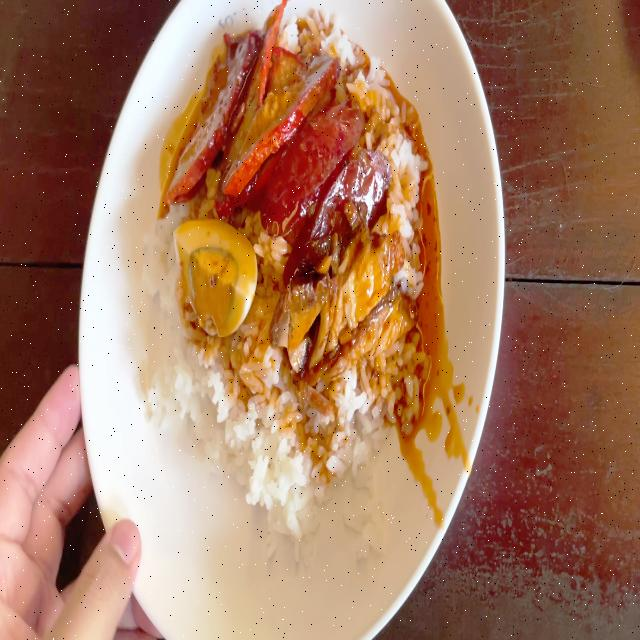boiled_egg: (170, 219, 256, 336)
chainese_sausage: (272, 106, 384, 254)
crispy_pork: (284, 242, 419, 376)
red_pork: (161, 22, 299, 186)
red_pork_and_crispy_pork: (151, 12, 426, 521)
rice: (168, 345, 298, 514), (295, 372, 424, 508)
